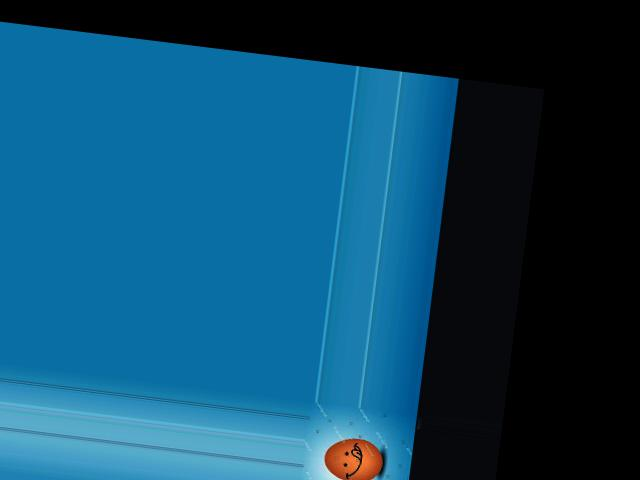egg: (322, 434, 385, 480)
